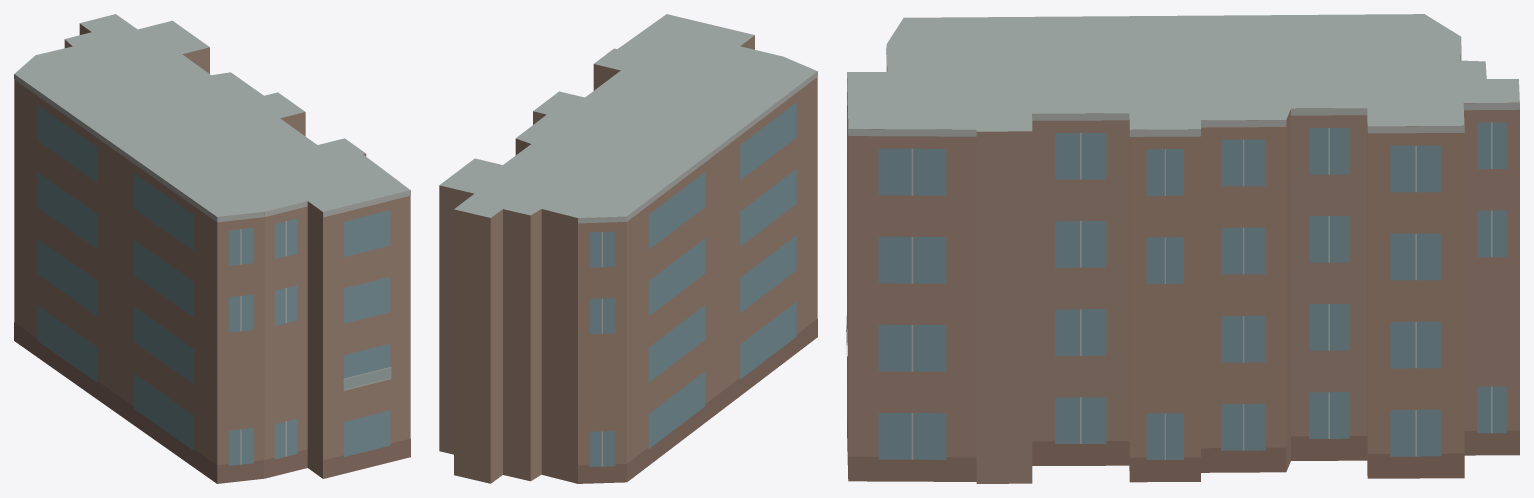
File: survey-upis-32690373.glb
The picture shows the model from 3 angles, left to right: view 1: azimuth 30°, elevation 25°; view 2: azimuth 150°, elevation 25°; view 3: azimuth 270°, elevation 25°; orthographic projection. The views are drawn at different scales.
Parts seen in each view (by area): view 1: survey-upis-32690373.tmp; view 2: survey-upis-32690373.tmp; view 3: survey-upis-32690373.tmp.
Part boxes in pixels (x1=…): survey-upis-32690373.tmp: x1=14, y1=14, x2=410, y2=483; survey-upis-32690373.tmp: x1=439, y1=14, x2=817, y2=483; survey-upis-32690373.tmp: x1=846, y1=14, x2=1519, y2=483.
Size of the model in its own units: 8.67 by 12.1 by 20.97.
